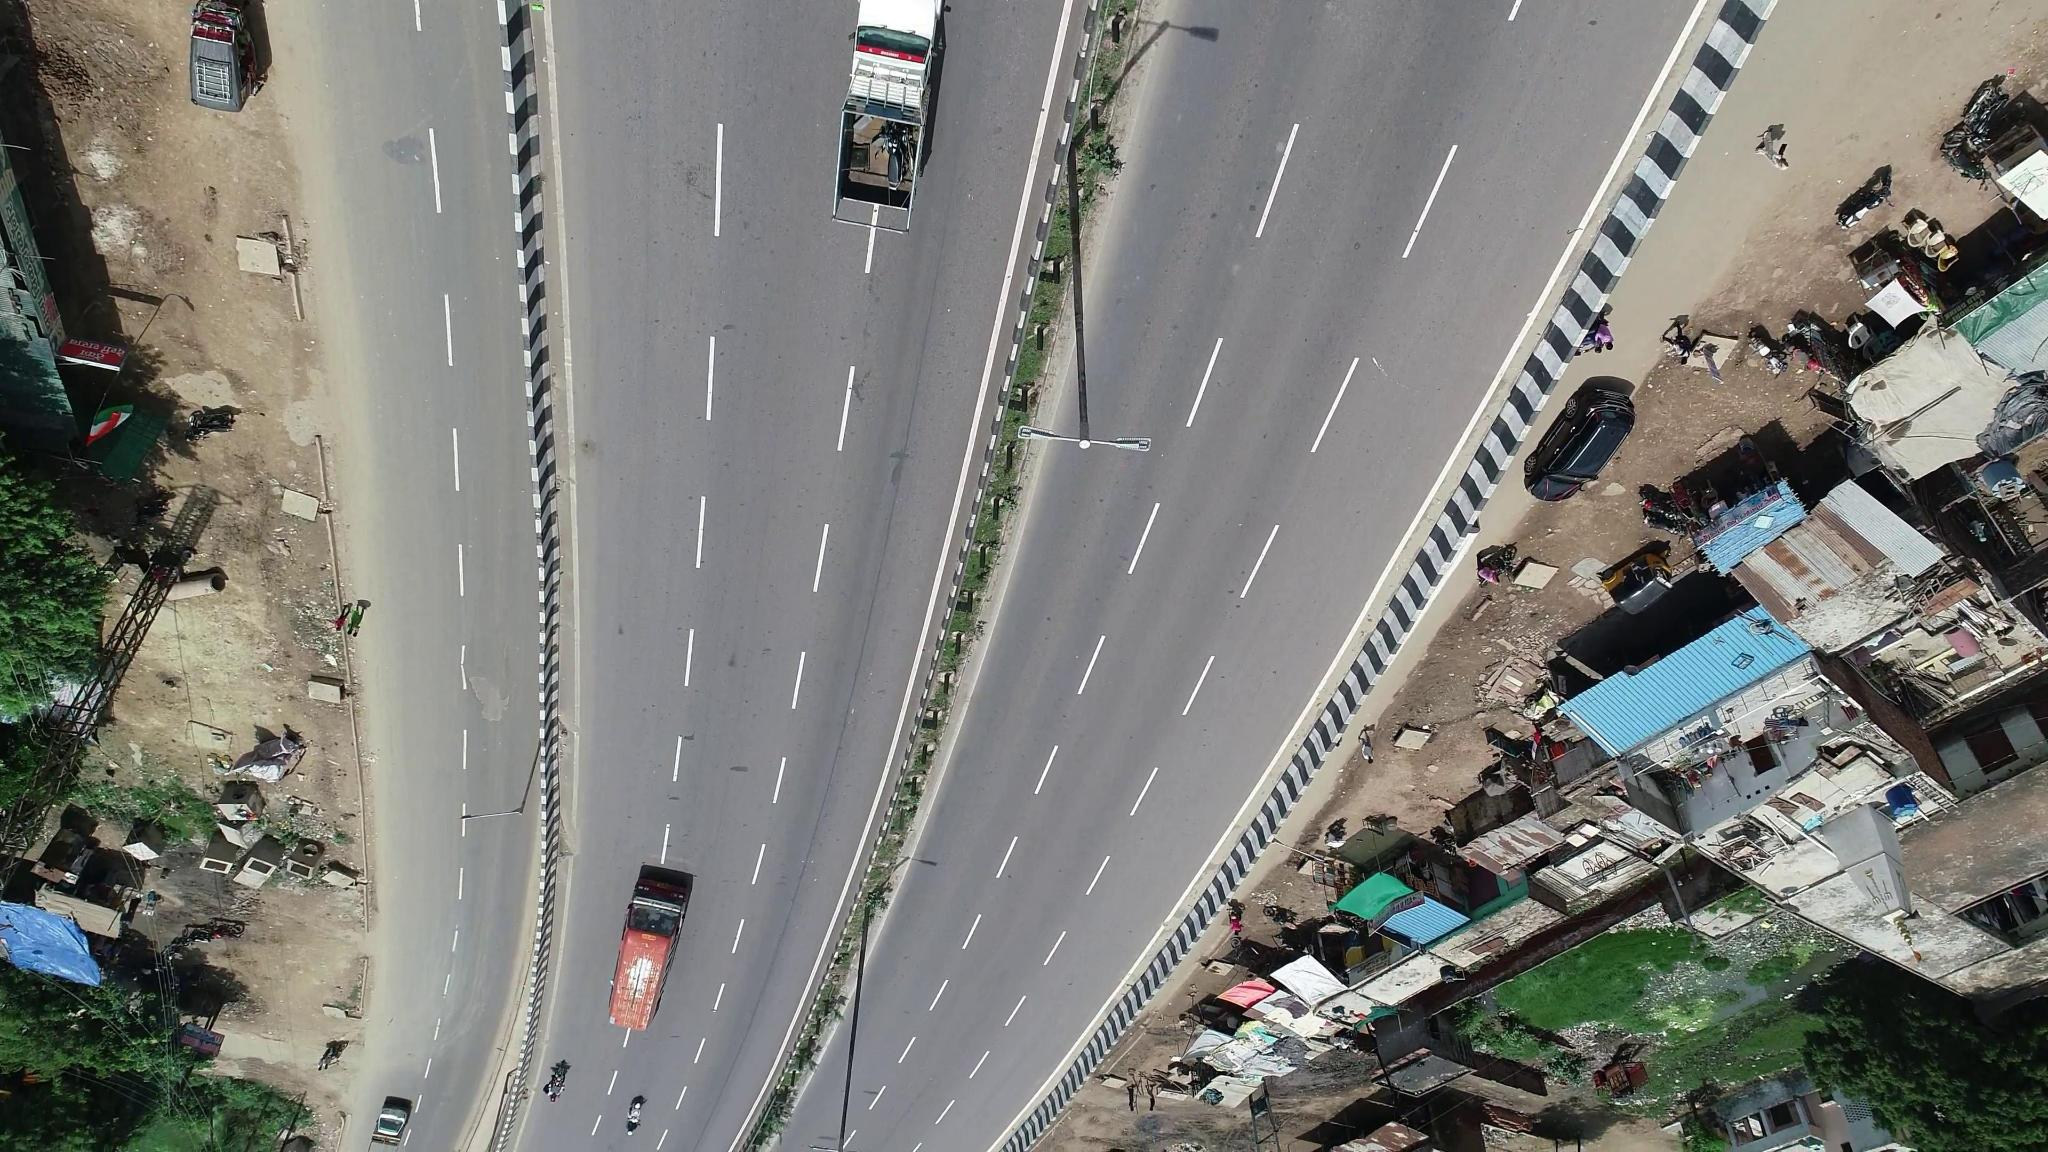Potholes: (466, 665, 527, 738)
